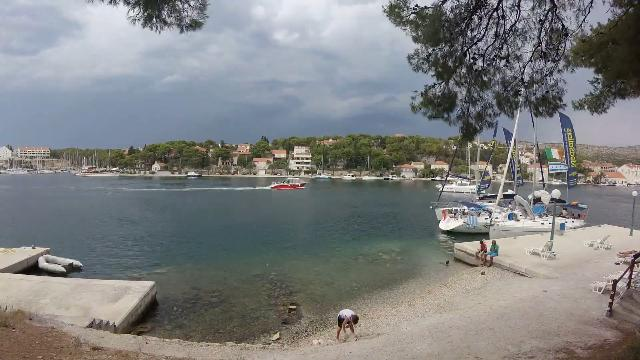speedboat: (267, 173, 311, 192)
